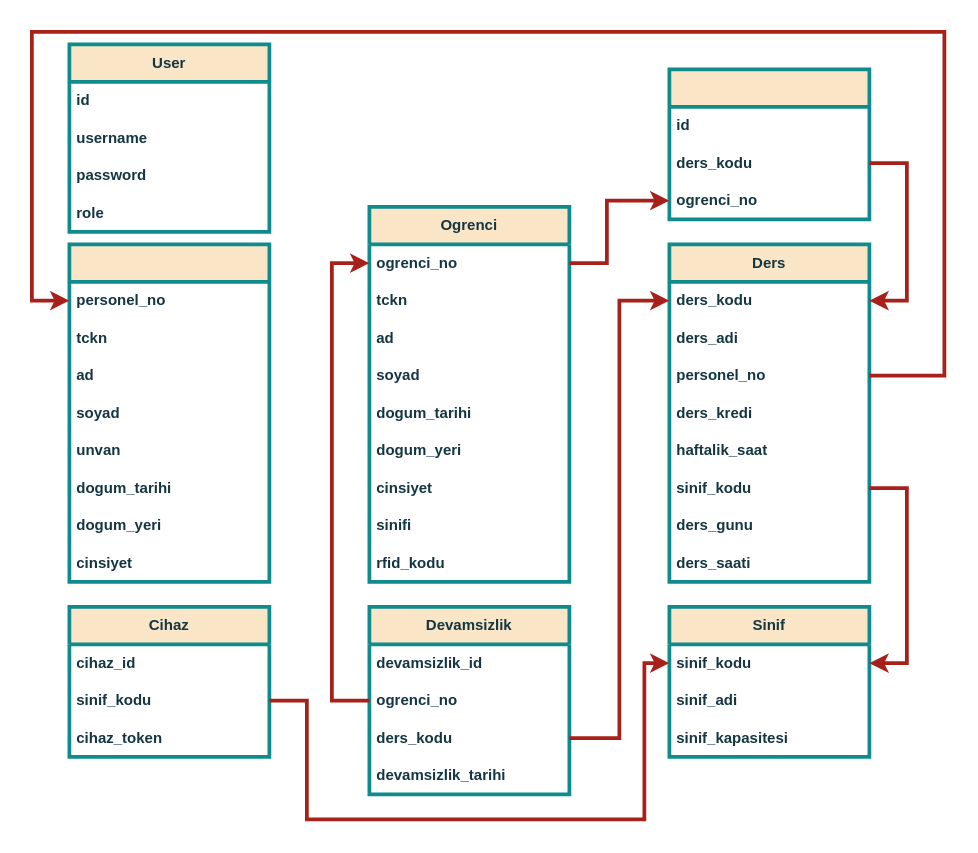
Some shapes in this 978 by 853 pixel diagram are drawn without their labels. Here are the shapes that lost their labels. From the top down, the box of each, then its label:
(667, 67, 871, 221): DersOgrencileri
(67, 242, 271, 583): Akademisyen
